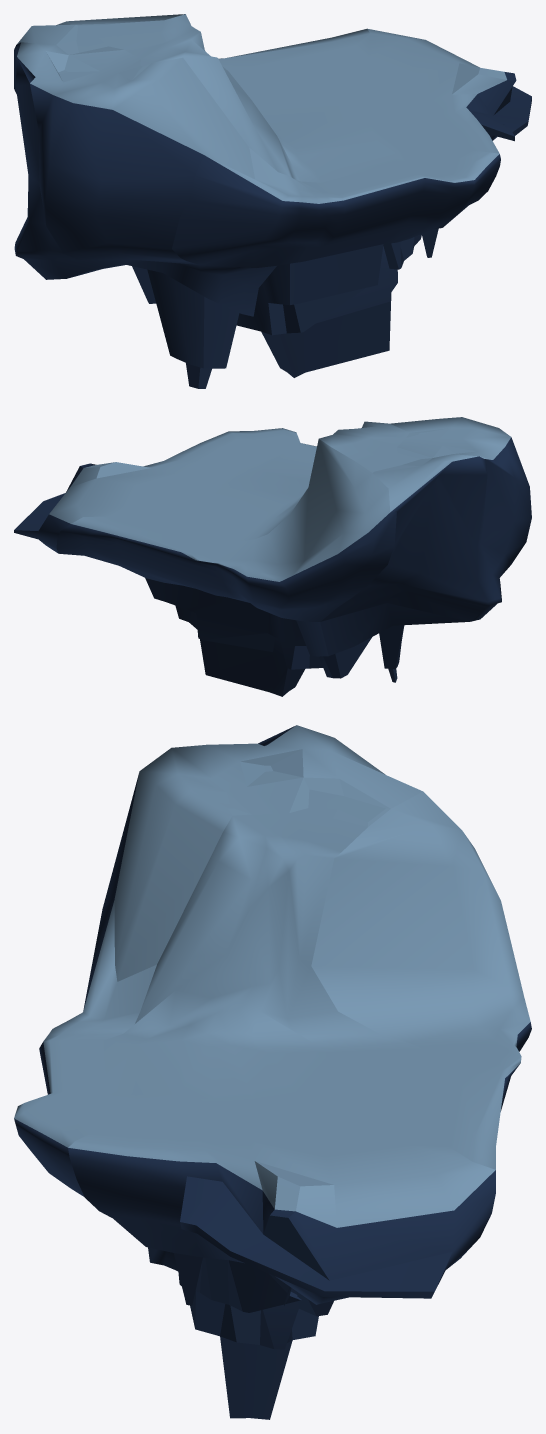
File: Night_Tutorial_Island.fbx
3 renders of one model, top to bottom at view 1: azimuth 30°, elevation 25°; view 2: azimuth 150°, elevation 25°; view 3: azimuth 270°, elevation 25°, orthographic. The views are drawn at different scales.
Visible parts, largest first — view 1: pCube1; view 2: pCube1; view 3: pCube1.
Boxes of the visible parts, x1,y1,x2,y2 form: pCube1: [14, 14, 531, 388]; pCube1: [14, 417, 531, 696]; pCube1: [14, 725, 531, 1419].
Bounding box in the file's own units: 33.99 × 21.82 × 21.41.
